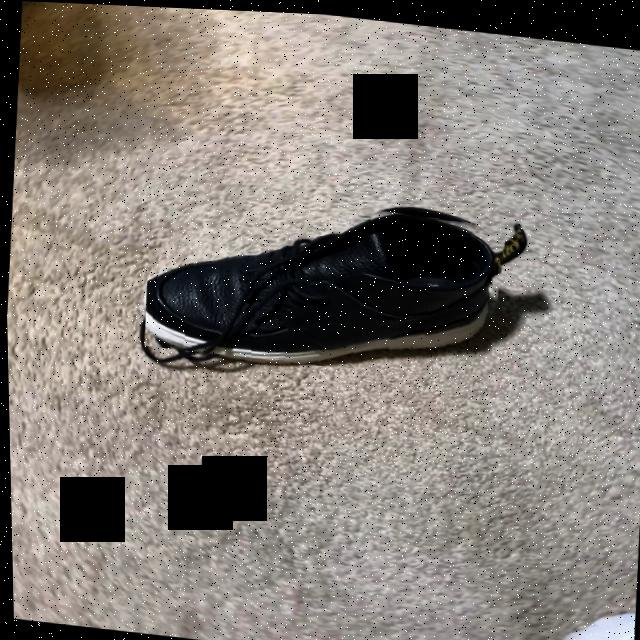shoe: (144, 209, 501, 356)
